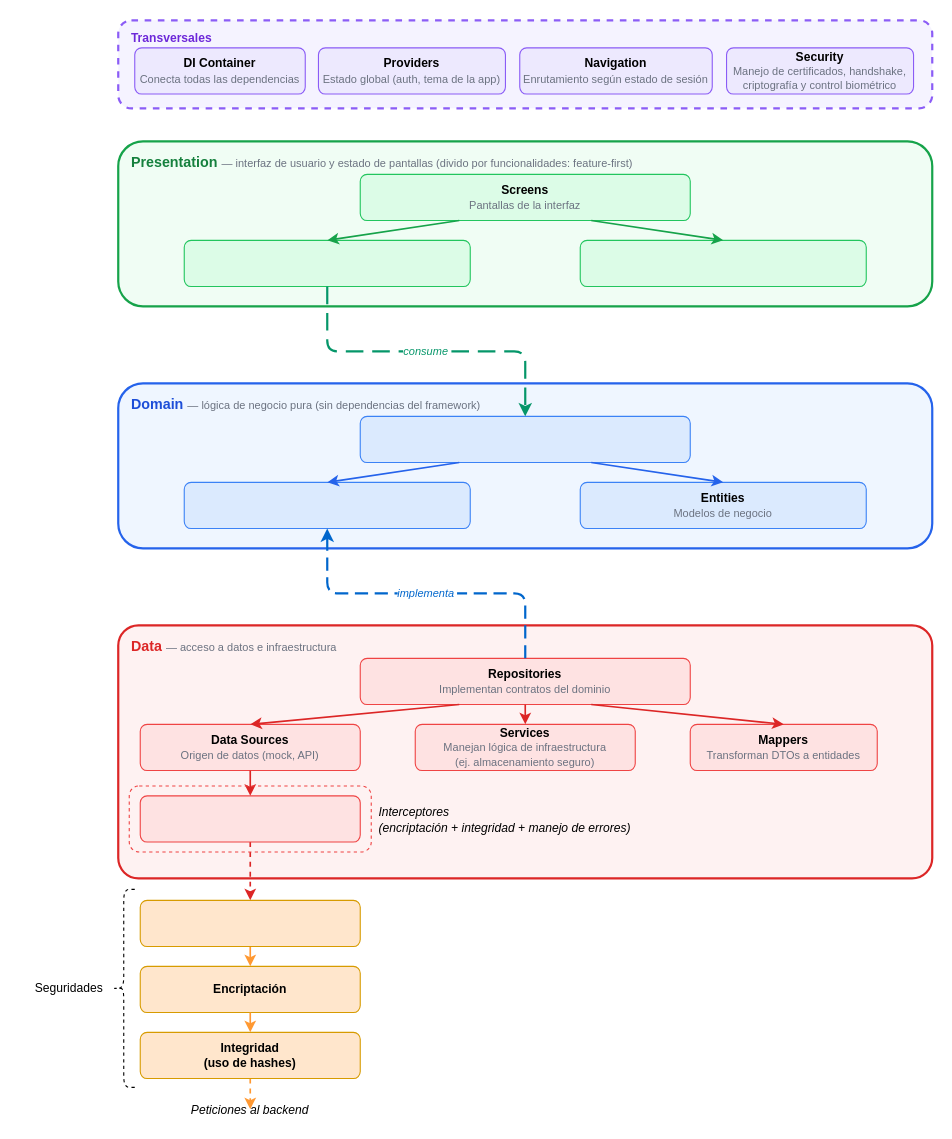
Image size: 952x1139. Some labels were removed from this diagram. The shapes that lost their labels are listed below. From the top down, each one's centre as x and y in pixels, then its label:
At point 326,263: "View Models Estado y lógica de UI (hooks)".
At point 722,263: "Shared Components Piezas reutilizables de UI".
At point 524,439: "Use Cases Operaciones de negocio".
At point 326,505: "Contracts Interfaces de repositorios y servicios".
At point 249,818: "HTTP Client Comunicación con APIs".
At point 249,923: "Validación de Certificados".
